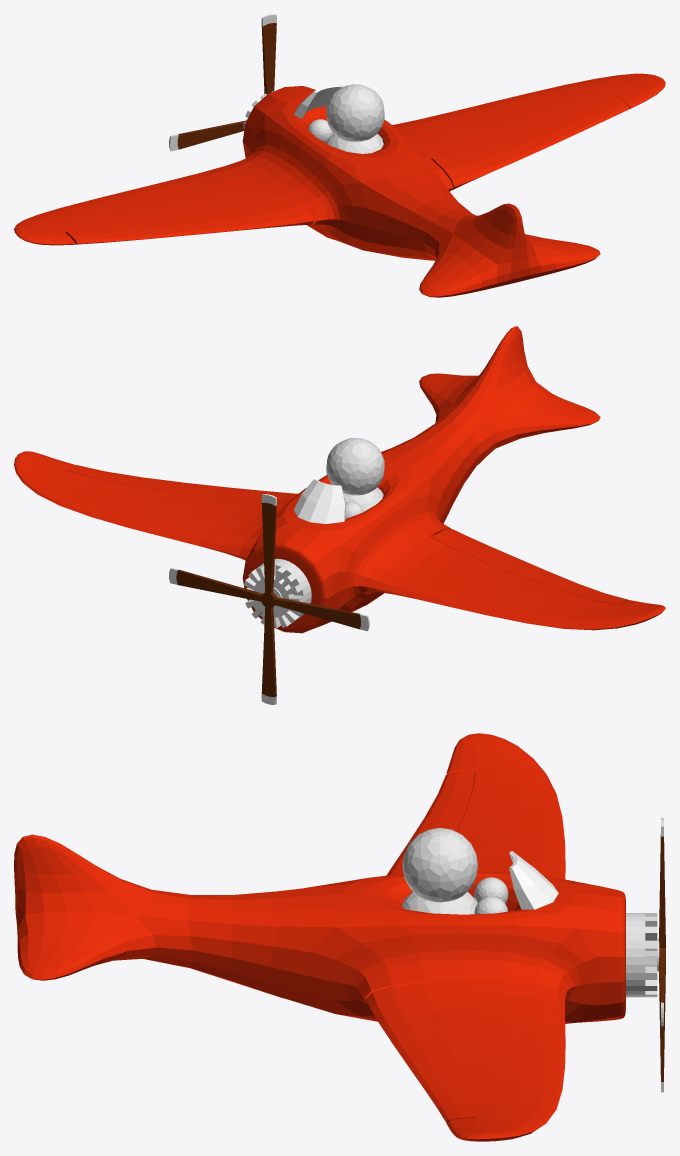
3 renders of one model, top to bottom at view 1: azimuth 30°, elevation 25°; view 2: azimuth 150°, elevation 25°; view 3: azimuth 270°, elevation 25°, orthographic. The views are drawn at different scales.
Visible parts, largest first — view 1: Cylinder, Cylinder.001; view 2: Cylinder, Cylinder.001; view 3: Cylinder, Cylinder.001.
Part boxes in pixels (x1=…): Cylinder: x1=14, y1=73, x2=665, y2=297; Cylinder.001: x1=169, y1=14, x2=276, y2=151; Cylinder: x1=14, y1=326, x2=665, y2=633; Cylinder.001: x1=169, y1=494, x2=369, y2=704; Cylinder: x1=14, y1=733, x2=659, y2=1141; Cylinder.001: x1=659, y1=818, x2=665, y2=1092.
Size of the model in its own units: 13.72 by 4.25 by 9.33.
